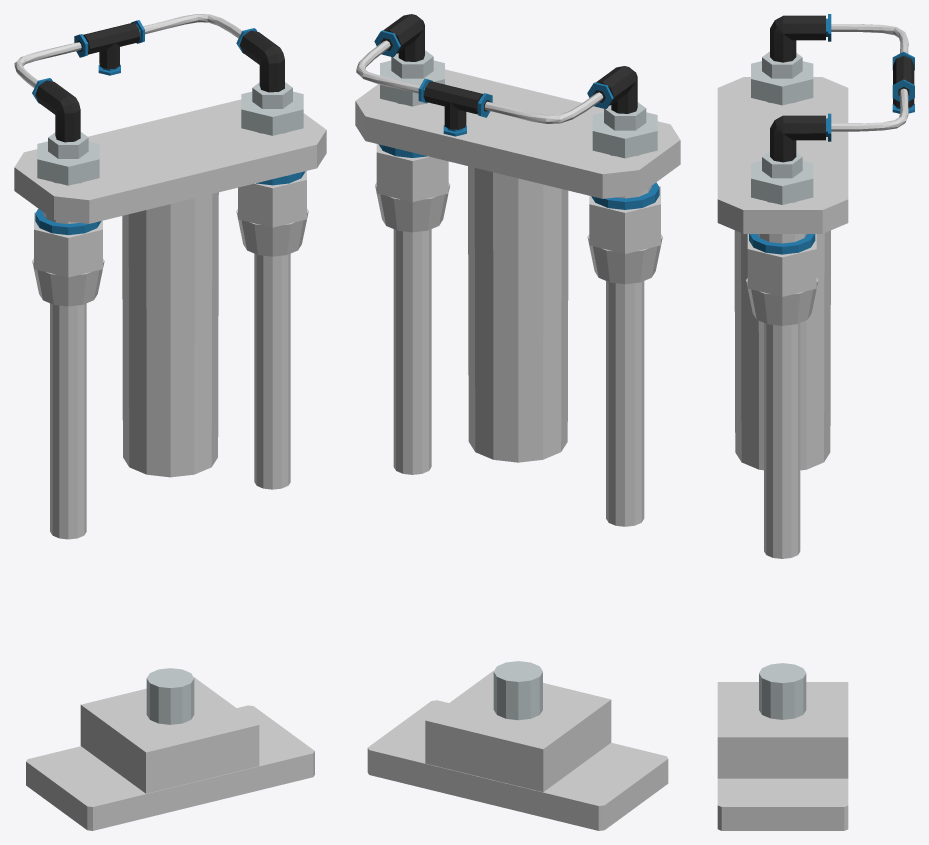
The model's file is muscle press just press.fbx.
3 views of the same model, side by side, from view 1: azimuth 30°, elevation 25°; view 2: azimuth 150°, elevation 25°; view 3: azimuth 270°, elevation 25° (orthographic). The views are drawn at different scales.
Parts seen in each view (by area): view 1: FbxMesh.037, FbxMesh.036, FbxMesh.035, FbxMesh.034, FbxMesh.040, FbxMesh.057, FbxMesh.059, FbxMesh.042, FbxMesh.039, FbxMesh.041, FbxMesh.058, FbxMesh.045 (+9 smaller); view 2: FbxMesh.037, FbxMesh.036, FbxMesh.035, FbxMesh.034, FbxMesh.040, FbxMesh.057, FbxMesh.059, FbxMesh.042, FbxMesh.039, FbxMesh.062, FbxMesh.058, FbxMesh.041 (+9 smaller); view 3: FbxMesh.036, FbxMesh.037, FbxMesh.035, FbxMesh.040, FbxMesh.034, FbxMesh.042, FbxMesh.039, FbxMesh.041, FbxMesh.062, FbxMesh.114, FbxMesh.119, FbxMesh.045 (+6 smaller).
Boxes of the visible parts, bbox=[...] form: FbxMesh.037: bbox=[122, 192, 218, 477]; FbxMesh.036: bbox=[14, 99, 326, 223]; FbxMesh.035: bbox=[80, 677, 259, 793]; FbxMesh.034: bbox=[26, 705, 314, 830]; FbxMesh.040: bbox=[254, 253, 290, 489]; FbxMesh.057: bbox=[50, 303, 86, 539]; FbxMesh.059: bbox=[34, 212, 102, 277]; FbxMesh.042: bbox=[238, 171, 306, 227]; FbxMesh.039: bbox=[146, 668, 194, 724]; FbxMesh.041: bbox=[236, 208, 308, 256]; FbxMesh.058: bbox=[32, 258, 104, 306]; FbxMesh.045: bbox=[241, 91, 303, 135]; FbxMesh.037: bbox=[468, 166, 568, 462]; FbxMesh.036: bbox=[355, 69, 680, 198]; FbxMesh.035: bbox=[425, 670, 611, 792]; FbxMesh.034: bbox=[367, 700, 668, 830]; FbxMesh.040: bbox=[393, 229, 431, 474]; FbxMesh.057: bbox=[606, 281, 644, 526]; FbxMesh.059: bbox=[589, 186, 660, 253]; FbxMesh.042: bbox=[376, 144, 448, 202]; FbxMesh.039: bbox=[493, 661, 542, 720]; FbxMesh.062: bbox=[592, 112, 657, 158]; FbxMesh.058: bbox=[587, 234, 662, 284]; FbxMesh.041: bbox=[375, 182, 450, 232]; FbxMesh.036: bbox=[717, 77, 848, 233]; FbxMesh.037: bbox=[734, 230, 830, 470]; FbxMesh.035: bbox=[717, 682, 848, 778]; FbxMesh.040: bbox=[764, 323, 800, 558]; FbxMesh.034: bbox=[717, 778, 848, 830]; FbxMesh.042: bbox=[747, 234, 816, 296]; FbxMesh.039: bbox=[759, 663, 806, 719]; FbxMesh.041: bbox=[746, 278, 818, 325]; FbxMesh.062: bbox=[751, 61, 813, 105]; FbxMesh.114: bbox=[770, 15, 825, 62]; FbxMesh.119: bbox=[770, 115, 825, 162]; FbxMesh.045: bbox=[751, 160, 813, 204].
Size of the model in its own units: 12.02 by 29.8 by 7.84.
